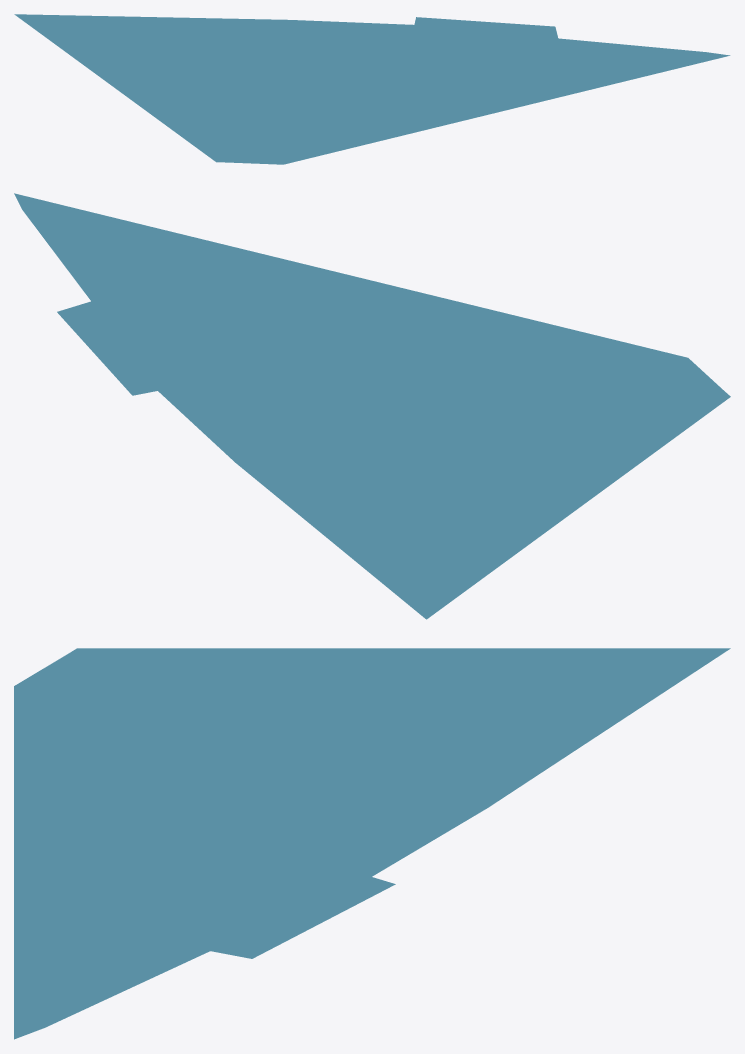
The model's file is tile_-15_2_far.glb.
3 views of the same model, one above another, from view 1: azimuth 30°, elevation 25°; view 2: azimuth 150°, elevation 25°; view 3: azimuth 270°, elevation 25° (orthographic). The views are drawn at different scales.
Visible parts, largest first — view 1: nature_water; view 2: nature_water; view 3: nature_water.
Part boxes in pixels (x1=…): nature_water: x1=14, y1=14, x2=730, y2=164; nature_water: x1=14, y1=193, x2=730, y2=619; nature_water: x1=14, y1=648, x2=730, y2=1039.
Size of the model in its own units: 136 by 0 by 105.
